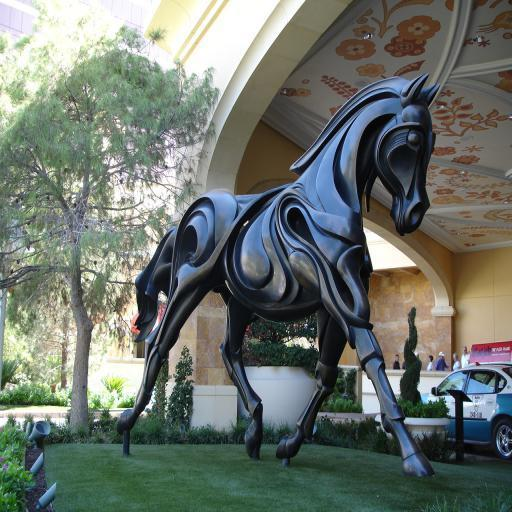horse: (116, 71, 442, 478)
